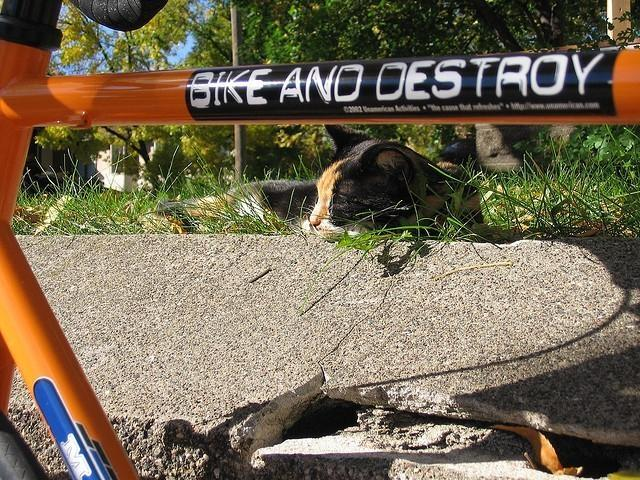bicycle: (1, 3, 640, 474)
